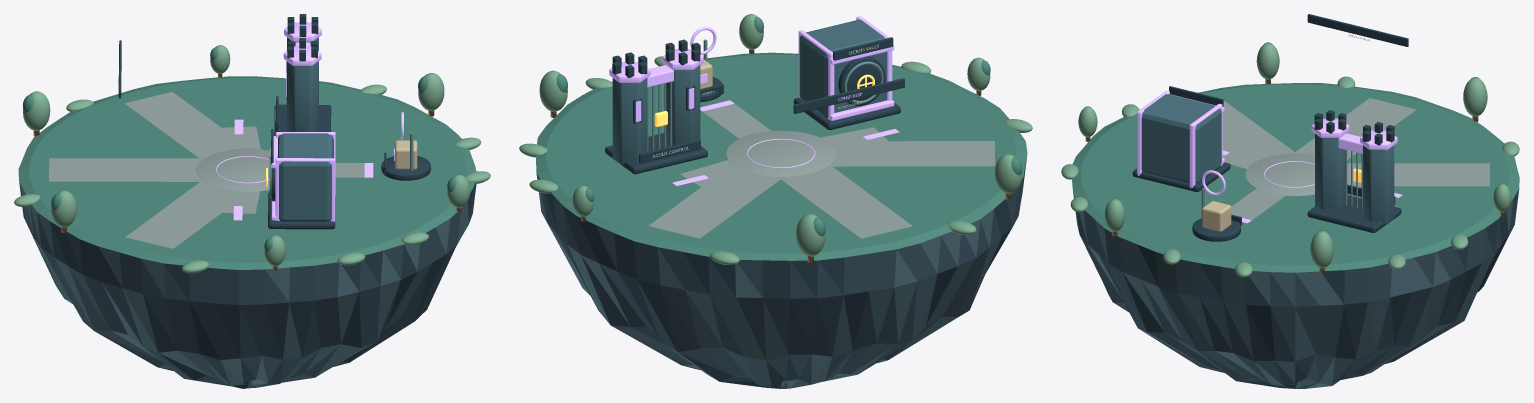
The model's file is district-security.glb.
3 renders of one model, left to right at view 1: azimuth 30°, elevation 25°; view 2: azimuth 150°, elevation 25°; view 3: azimuth 270°, elevation 25°, orthographic. The views are drawn at different scales.
Parts seen in each view (by area): view 1: district-security; view 2: district-security; view 3: district-security.
Boxes of the visible parts, left/top/right/bottom form: district-security: left=14, top=14, right=490, bottom=388; district-security: left=519, top=14, right=1032, bottom=388; district-security: left=1061, top=14, right=1519, bottom=388.
Size of the model in its own units: 13.27 by 9.78 by 12.82.
